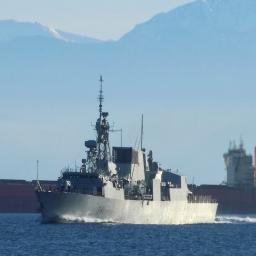Fragata: (35, 74, 220, 225)
